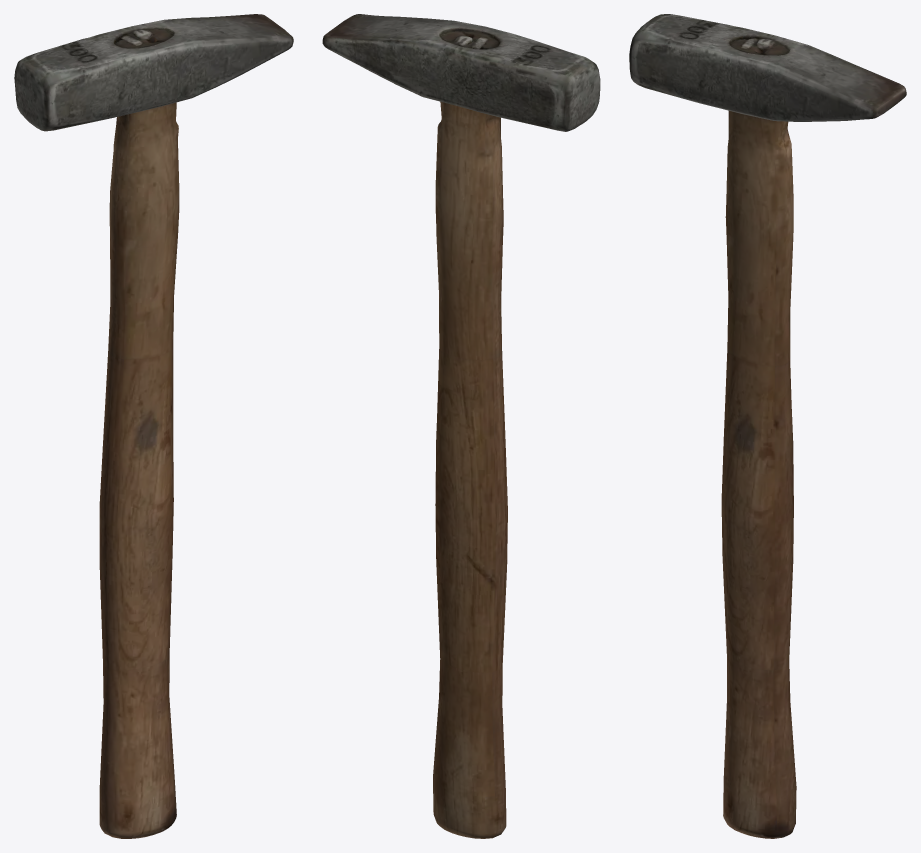
Rendered from cross_pein_hammer.glb.
3 renders of one model, left to right at view 1: azimuth 30°, elevation 25°; view 2: azimuth 150°, elevation 25°; view 3: azimuth 330°, elevation 25°, orthographic.
Parts seen in each view (by area): view 1: cross_pein_hammer; view 2: cross_pein_hammer; view 3: cross_pein_hammer.
Boxes of the visible parts, <box> form: cross_pein_hammer: <box>14,14,293,838</box>; cross_pein_hammer: <box>322,14,600,838</box>; cross_pein_hammer: <box>629,14,906,838</box>.
Bounding box in the file's own units: 0.0991 × 0.3002 × 0.0243.
1 material, 1 textured.
